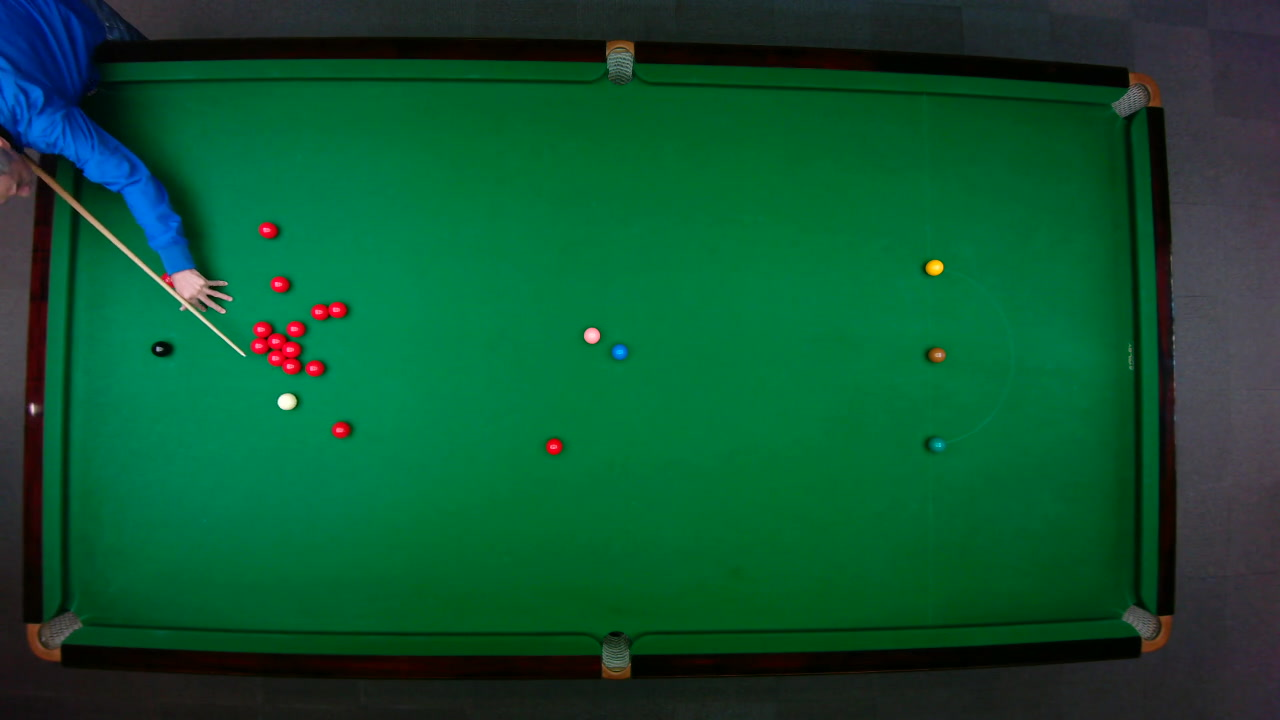bag: (25, 609, 83, 662), (1119, 603, 1171, 652), (1108, 71, 1162, 118), (600, 629, 630, 680), (605, 38, 633, 85)
black: (150, 340, 171, 357)
blue: (609, 343, 628, 360)
brown: (926, 346, 946, 362)
cue: (13, 146, 247, 359)
green: (926, 434, 946, 452)
pink: (582, 325, 601, 344)
red: (158, 270, 178, 291), (303, 358, 325, 377), (257, 220, 278, 239), (280, 339, 301, 358), (327, 299, 348, 318), (268, 275, 290, 293), (284, 319, 306, 337), (330, 420, 351, 438), (309, 302, 329, 320), (280, 357, 301, 374), (249, 337, 270, 354), (265, 332, 286, 349), (251, 320, 272, 337), (544, 437, 562, 455), (265, 350, 284, 366)
white: (275, 391, 298, 411)
yellow: (923, 258, 944, 276)
zone: (924, 265, 1013, 445)
